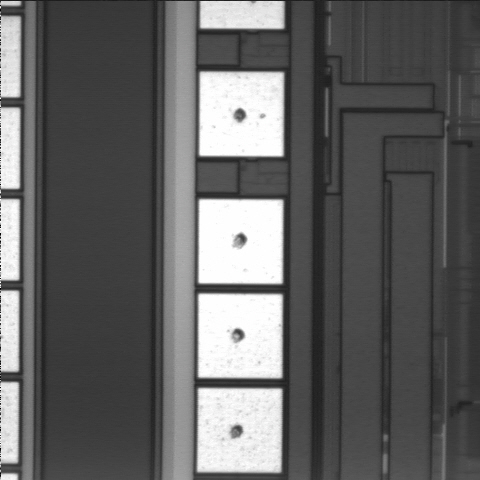pad: (198, 199, 283, 284), (197, 388, 282, 473), (199, 72, 284, 156), (198, 294, 283, 378)
